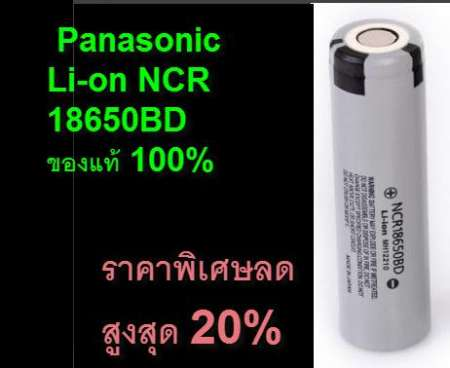Battery: (326, 15, 438, 357)
